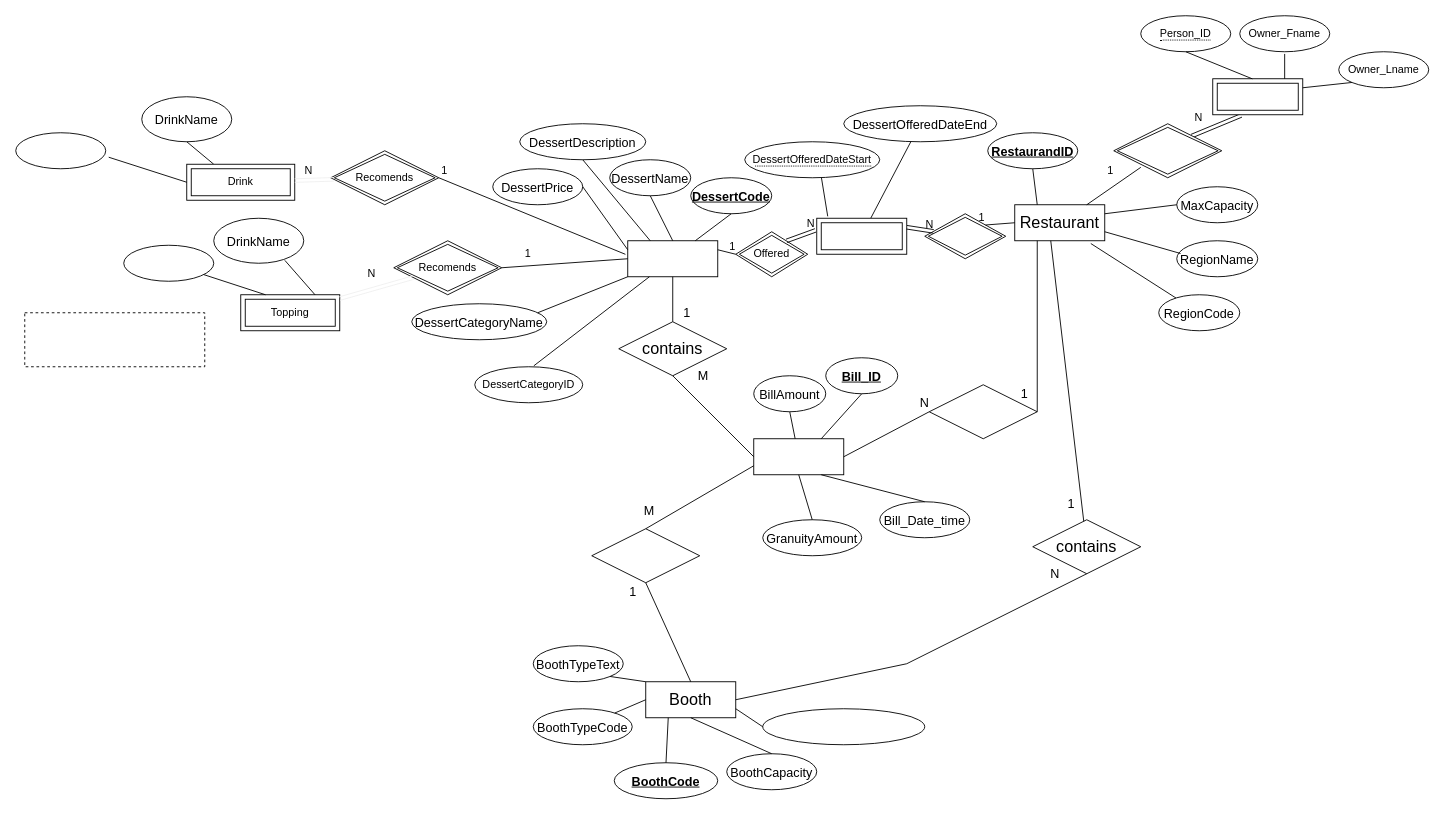
Image size: 1445x815. Some labels were removed from this diagram. Each missing label, with the box of its shape:
Bill: (753, 438, 844, 475)
Dessert: (627, 240, 718, 277)
DrinkID: (15, 132, 106, 169)
generate: (591, 528, 700, 583)
har: (1113, 123, 1222, 178)
Offer: (816, 217, 907, 254)
Offers: (924, 213, 1006, 259)
Owner: (1212, 78, 1303, 115)
Partiella beroendet för Drink och Topping hanteras i andra normal formen: (24, 312, 205, 367)
process: (928, 384, 1037, 439)
SmokingSectionIndicator: (762, 708, 925, 745)
ToppingID: (123, 244, 214, 281)
